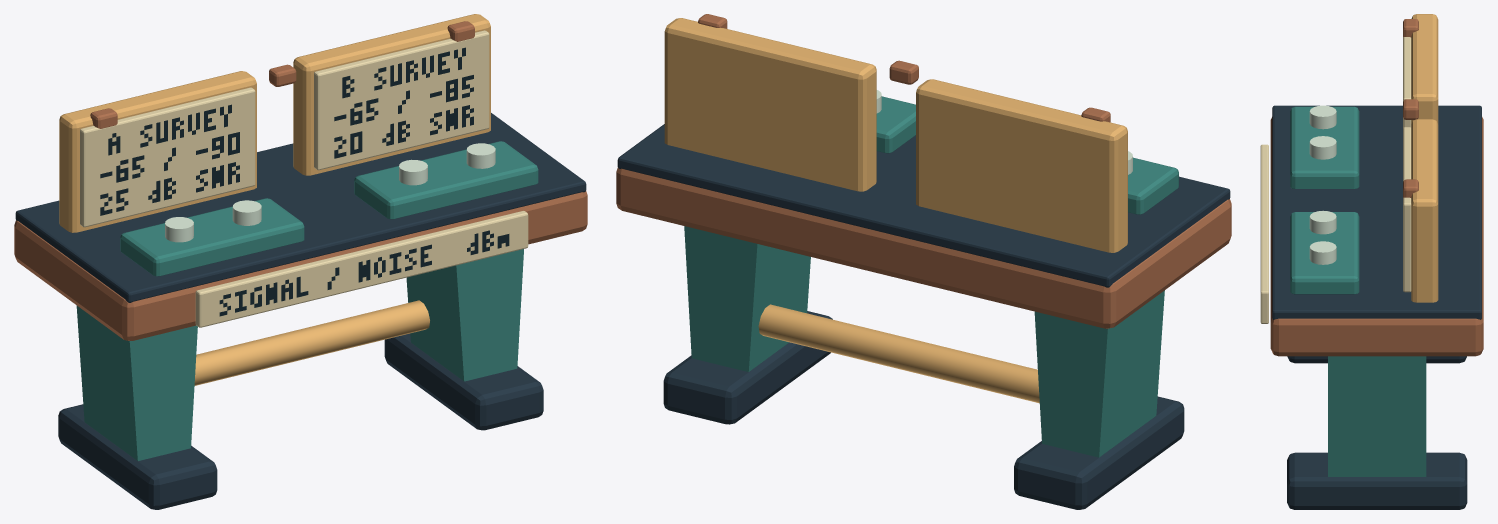
3 views of the same model, side by side, from view 1: azimuth 30°, elevation 25°; view 2: azimuth 150°, elevation 25°; view 3: azimuth 270°, elevation 25° (orthographic). The views are drawn at different scales.
Parts seen in each view (by area): view 1: PR080 enamel and hardware; view 2: PR080 enamel and hardware; view 3: PR080 enamel and hardware.
Boxes of the visible parts, x1,y1,x2,y2 form: PR080 enamel and hardware: (14, 14, 587, 509); PR080 enamel and hardware: (616, 14, 1231, 509); PR080 enamel and hardware: (1260, 14, 1483, 509).
Size of the model in its own units: 1.6 by 1.15 by 0.7226.
